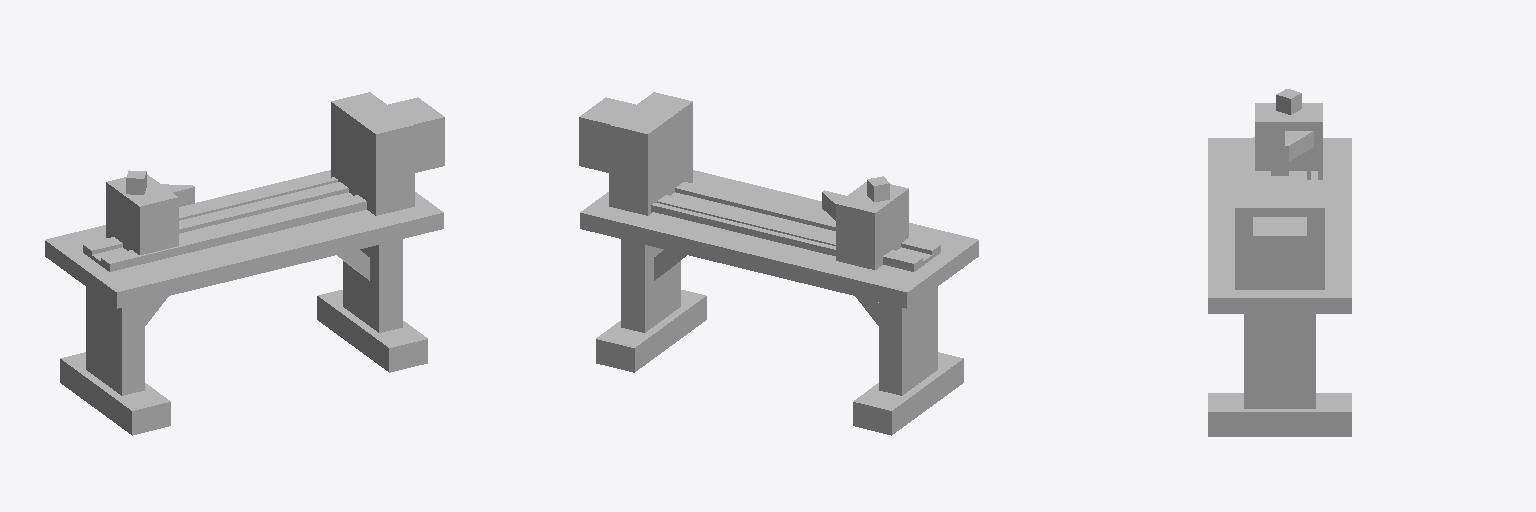
File: lathe_base_mirrored.obj
3 views of the same model, side by side, from view 1: azimuth 30°, elevation 25°; view 2: azimuth 150°, elevation 25°; view 3: azimuth 270°, elevation 25° (orthographic).
Visible parts, largest first — view 1: cube; view 2: cube; view 3: cube.
Part boxes in pixels (left/top/right/bottom): cube: left=45, top=92, right=444, bottom=435; cube: left=579, top=92, right=978, bottom=435; cube: left=1208, top=89, right=1351, bottom=436.
Bounding box in the file's own units: 2.81 × 1.75 × 1.